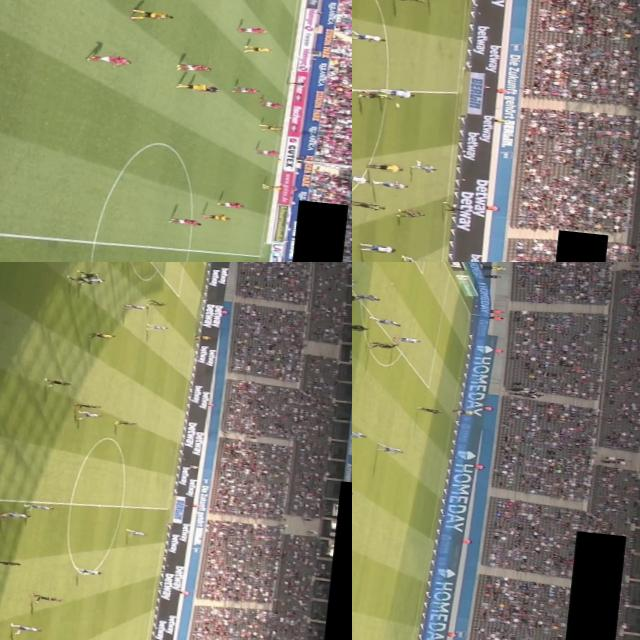ball: (392, 99, 402, 108), (79, 272, 87, 278)
player: (83, 50, 141, 70), (122, 6, 176, 22), (178, 60, 220, 75), (365, 336, 402, 352), (352, 28, 389, 43), (228, 21, 272, 33), (361, 240, 400, 253), (254, 144, 284, 160), (241, 42, 275, 56), (381, 86, 420, 98), (255, 179, 288, 193), (174, 79, 212, 91), (10, 620, 42, 634), (166, 214, 203, 226), (218, 198, 252, 211), (361, 88, 396, 100), (256, 119, 285, 133), (371, 315, 401, 328), (374, 442, 404, 455), (373, 178, 411, 188), (232, 84, 262, 96), (412, 158, 439, 171), (352, 198, 387, 208), (66, 272, 95, 284), (1, 508, 30, 520), (393, 332, 422, 344), (31, 592, 64, 602), (354, 292, 381, 304), (124, 526, 150, 538), (258, 99, 286, 110), (44, 378, 74, 388), (416, 404, 446, 414), (144, 321, 172, 331), (74, 566, 102, 576), (24, 502, 54, 511), (352, 425, 371, 439), (400, 208, 426, 218), (76, 410, 102, 420), (0, 557, 22, 568), (202, 212, 231, 220), (74, 402, 102, 410), (82, 275, 106, 284), (113, 418, 139, 426), (352, 320, 369, 332), (443, 203, 468, 211), (352, 172, 370, 183), (77, 269, 101, 277), (147, 298, 168, 306), (403, 256, 427, 262), (123, 302, 147, 308), (352, 273, 361, 283)
